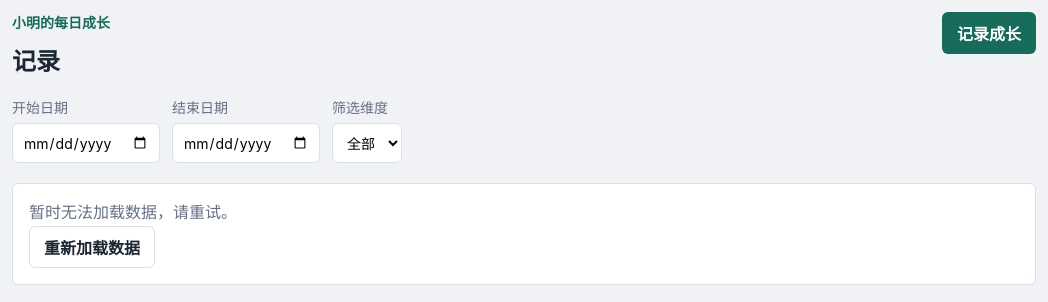
Test: Task 9 growth logs › distinguishes a retryable error from an empty log list
The image size is (1048, 302).
Expected: the text "暂时无法加载数据，请重试。" is shown, [29,202,237,222]
Step 1. Click the button "重新加载数据" → {"x": 92, "y": 247}, box [29,226,155,268]
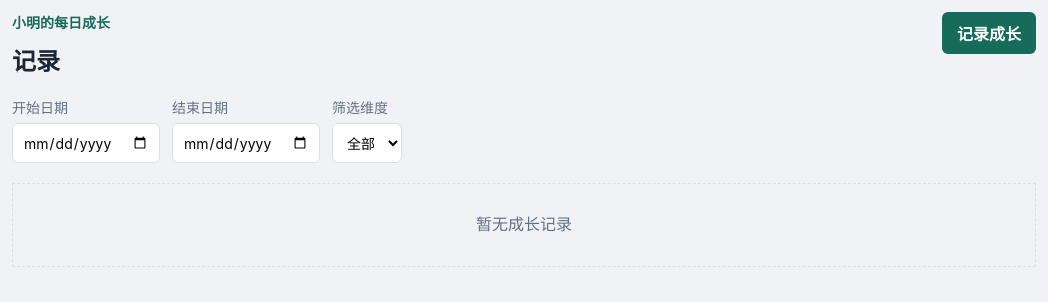
Expected: the text "暂无成长记录" is shown, [12,183,1036,267]
